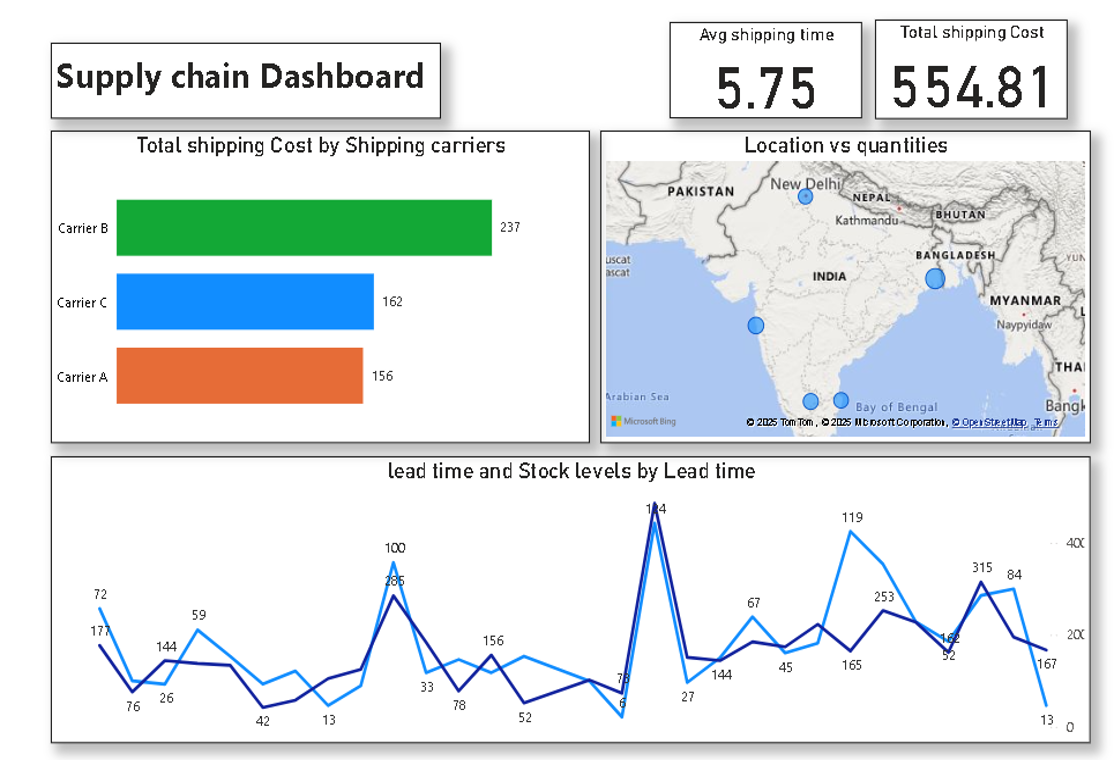

Layout of this report page (visuals, bound fields, positions):
{"tool":"powerbi","page":{"name":"Shipping","canvas":[1280,720],"ordinal":2},"visuals":[{"type":"card","title":"Avg shipping time","fields":{"Values":["Measure _Table.Avg Shipping Time"]},"box":[795.2,28.5,190.3,90],"z":0},{"type":"card","title":"Total shipping  Cost","fields":{"Values":["Measure _Table.Total shipping Cost"]},"box":[998,26.2,190.3,93.4],"z":1000},{"type":"map","title":"Location vs quantities","fields":{"Category":["supply_chain_data.Location"],"Size":["Sum(supply_chain_data.Stock levels)"],"Y":["Sum(supply_chain_data.Costs)"]},"box":[726.8,129.9,484.2,291.6],"z":2000},{"type":"barChart","fields":{"Y":["Measure _Table.Total shipping Cost"],"Category":["supply_chain_data.Shipping carriers"]},"box":[184.6,129.9,532,291.6],"z":3000},{"type":"lineChart","title":"lead time and  Stock levels by Lead time","fields":{"Category":["supply_chain_data.Lead time"],"Y":["Sum(supply_chain_data.Manufacturing lead time)"],"Y2":["Sum(supply_chain_data.Stock levels)"]},"box":[184.6,434.1,1026.5,267.7],"z":4000},{"type":"textbox","box":[184.6,47.8,385.1,70.6],"z":4001}]}

Visuals, with their boxes on the page's 1280x720 design canvas (x1, y1, x2, y2). These are canvas units, not pixel positions in the 1114x760 screenshot, which may show the page scaled, cropped or inside an application window:
"Avg shipping time" card: [795,28,986,118]
"Total shipping  Cost" card: [998,26,1188,120]
"Location vs quantities" map: [727,130,1211,422]
barChart - Measure _Table.Total shipping Cost x supply_chain_data.Shipping carriers: [185,130,717,422]
"lead time and  Stock levels by Lead time" lineChart: [185,434,1211,702]
textbox: [185,48,570,118]
